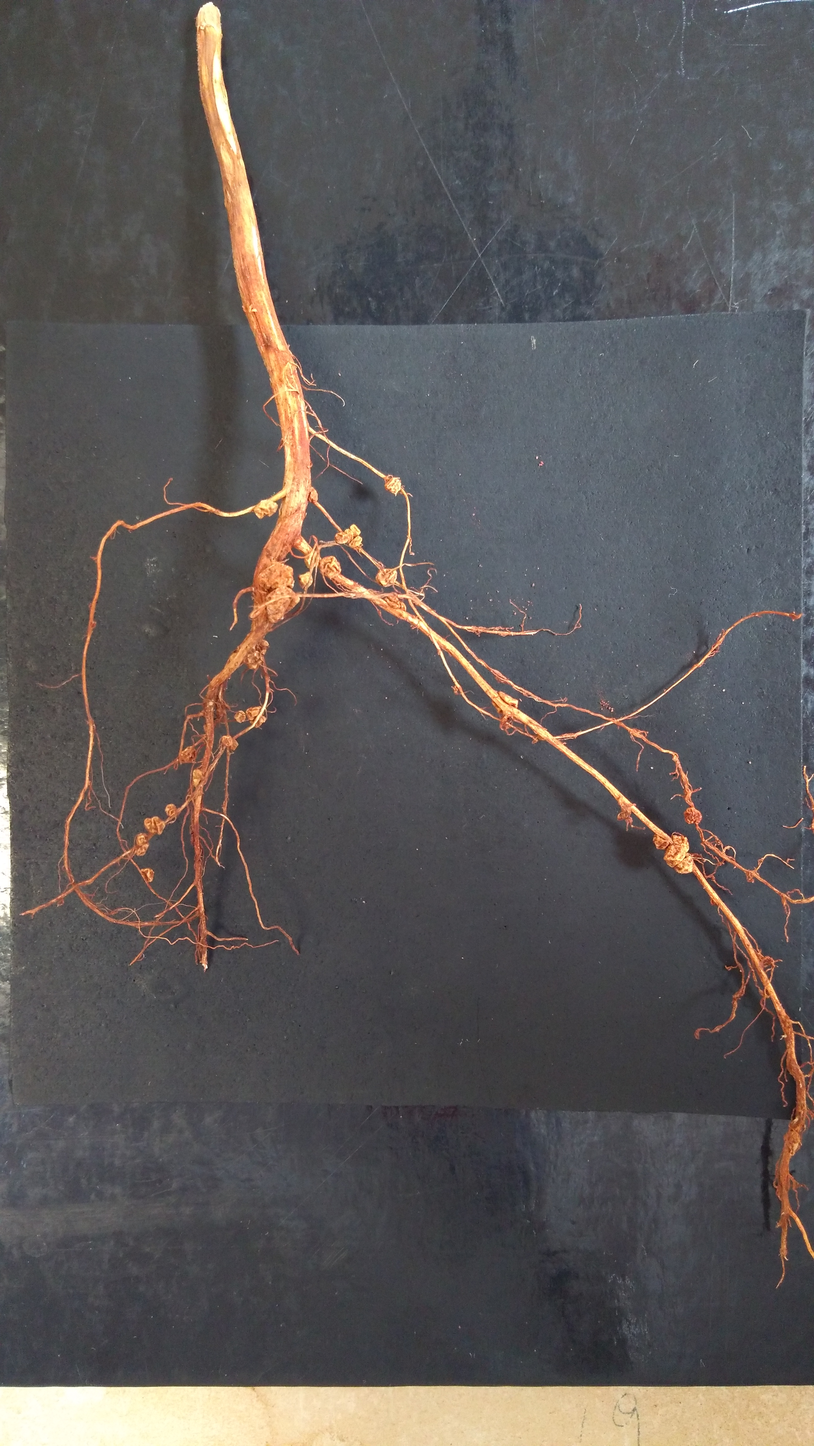nodule: (265, 586, 301, 623), (257, 563, 294, 593), (491, 690, 519, 716), (663, 843, 686, 868), (319, 555, 342, 579), (253, 499, 279, 520), (784, 1130, 802, 1157), (375, 568, 398, 588), (674, 855, 694, 874), (245, 650, 263, 670), (684, 807, 703, 825), (672, 834, 690, 853), (150, 815, 166, 836), (384, 477, 402, 494), (180, 745, 197, 763), (383, 593, 401, 609), (297, 571, 313, 588), (653, 834, 669, 851), (303, 550, 318, 568), (244, 705, 260, 721), (250, 714, 266, 729), (140, 868, 155, 883), (143, 817, 156, 834), (192, 768, 203, 787), (333, 531, 349, 544), (348, 535, 362, 549), (135, 833, 149, 846), (136, 843, 149, 857), (308, 486, 318, 504), (234, 709, 246, 724), (349, 523, 362, 536), (220, 734, 233, 747), (164, 803, 177, 816), (259, 639, 269, 655), (344, 529, 354, 542), (230, 738, 239, 751), (537, 733, 547, 741), (399, 601, 406, 611), (90, 620, 97, 628)
